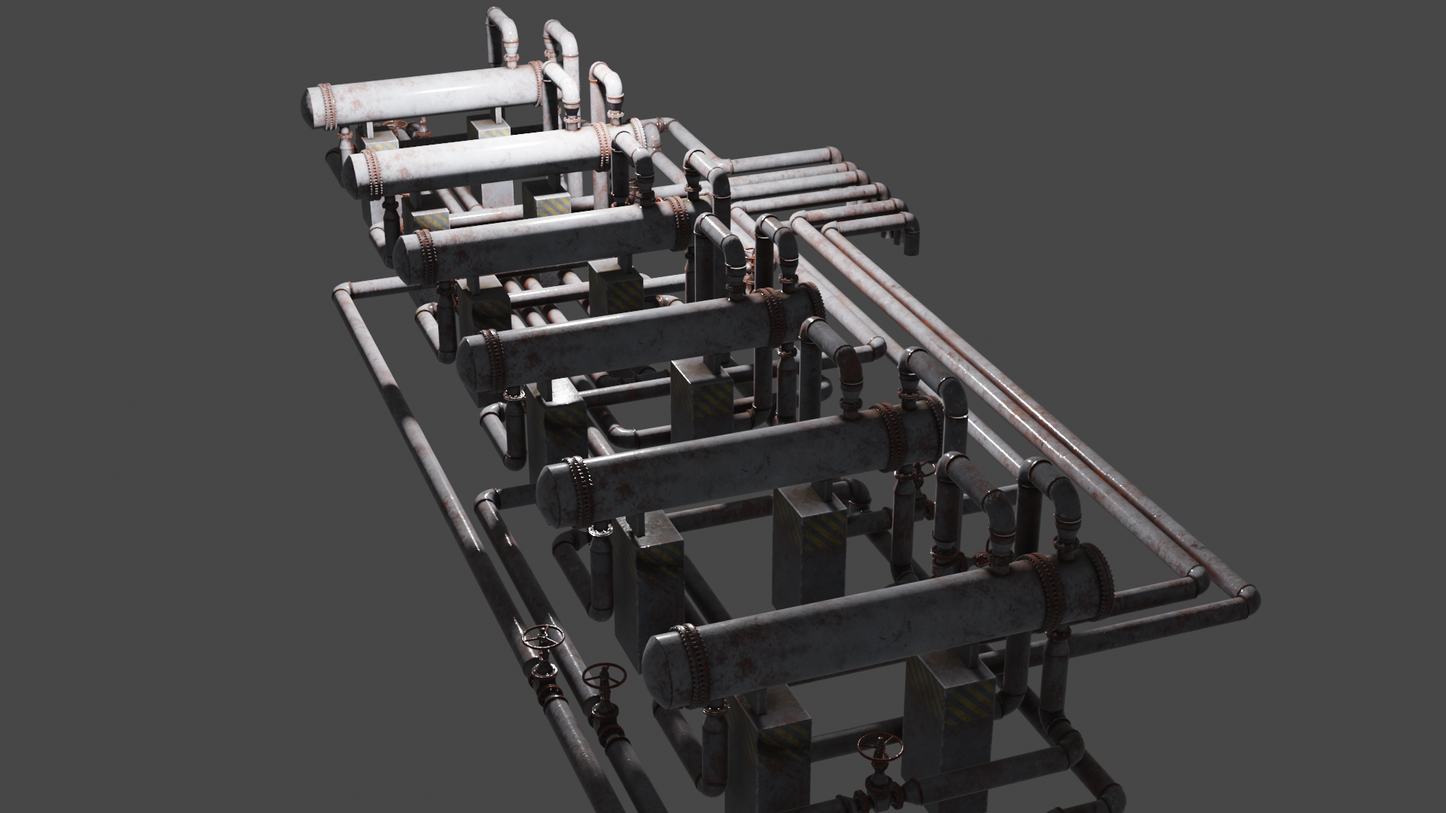HE_1: (638, 539, 1117, 711)
HE_2: (533, 394, 939, 532)
HE_3: (450, 283, 831, 400)
HE_4: (387, 185, 716, 288)
HE_5: (335, 117, 660, 196)
HE_6: (302, 63, 550, 130)
